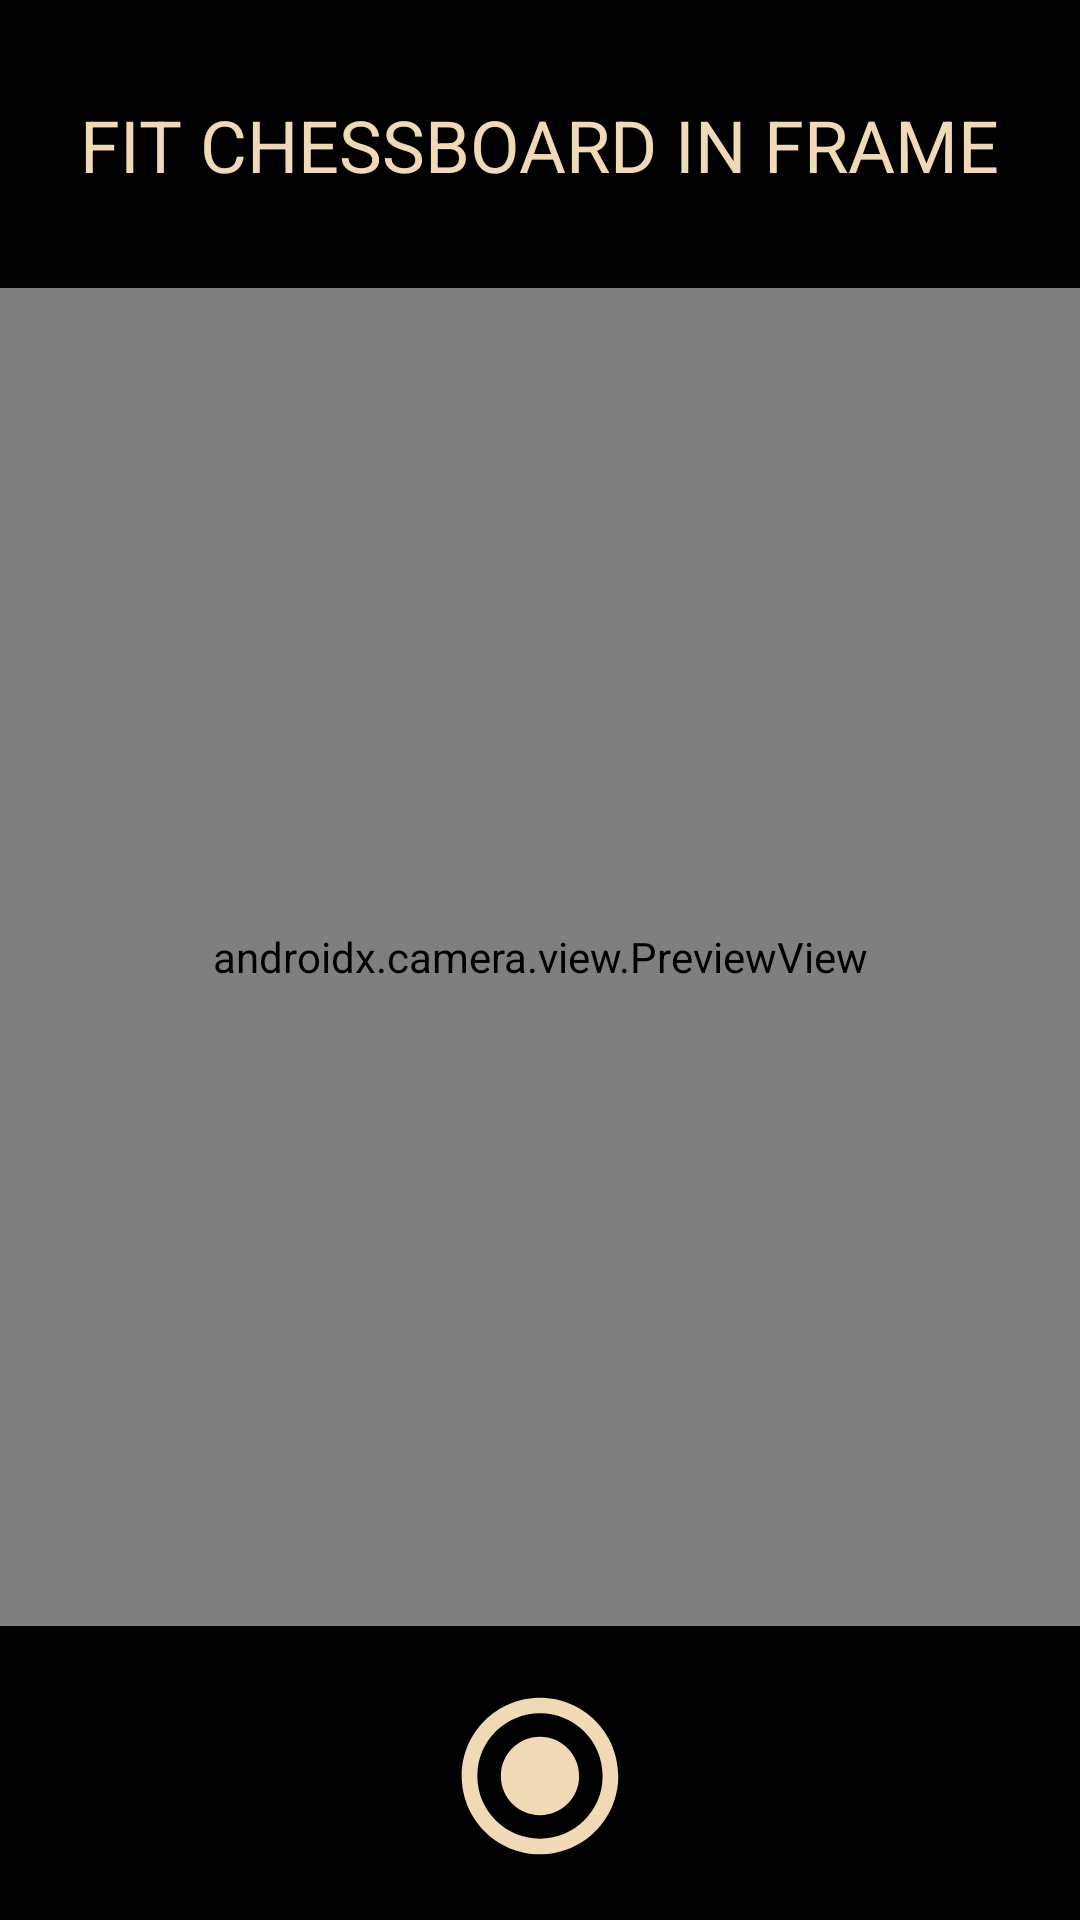

Named icons in this screenshot (1080px x 1920px) and their centers, point (x, y):
take picture button: point (540, 1776)
